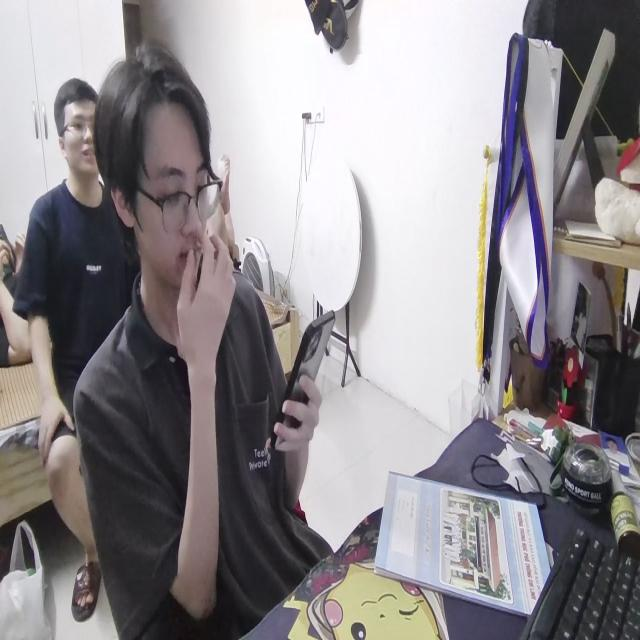book: (368, 465, 554, 618)
extra_person: (14, 77, 139, 617)
phone: (265, 306, 333, 471)
student: (75, 44, 326, 640)
